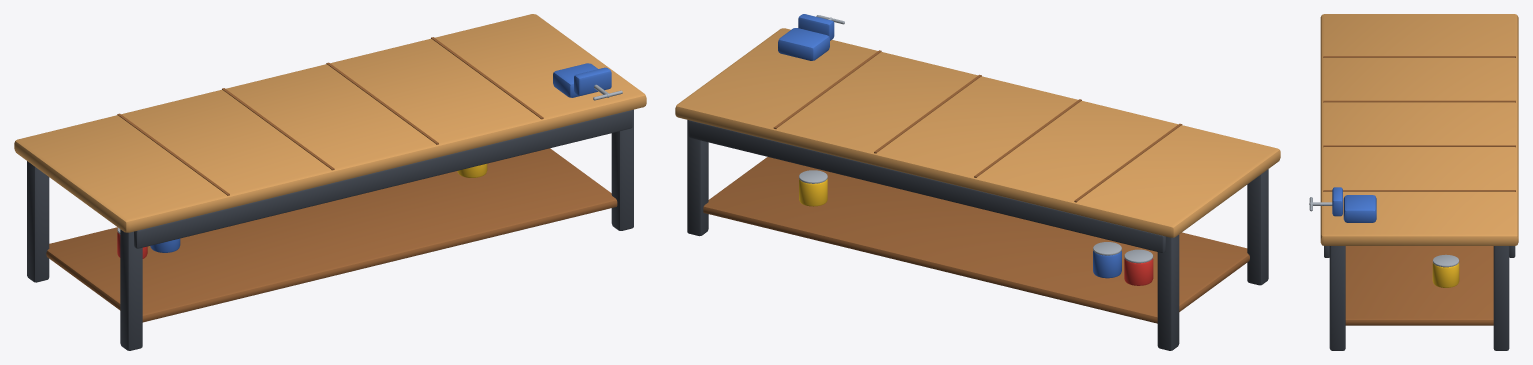
File: Workbench.fbx
The picture shows the model from 3 angles, left to right: view 1: azimuth 30°, elevation 25°; view 2: azimuth 150°, elevation 25°; view 3: azimuth 270°, elevation 25°; orthographic projection. The views are drawn at different scales.
Parts seen in each view (by area): view 1: Prop_Workbench; view 2: Prop_Workbench; view 3: Prop_Workbench.
Boxes of the visible parts, left/top/right/bottom form: Prop_Workbench: left=14, top=14, right=646, bottom=350; Prop_Workbench: left=675, top=14, right=1280, bottom=350; Prop_Workbench: left=1309, top=14, right=1518, bottom=350.
Bounding box in the file's own units: 4 × 1.19 × 1.58.
